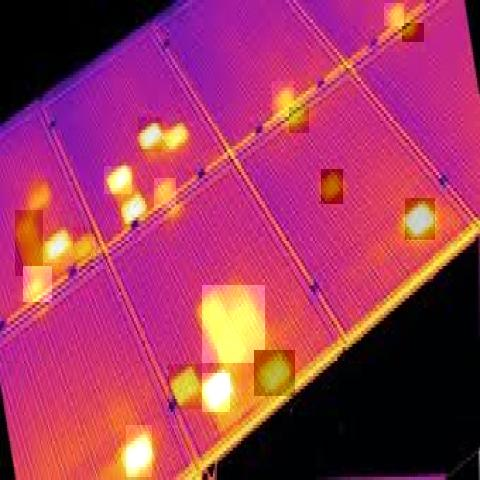fault: (202, 286, 265, 364), (15, 210, 44, 276), (254, 350, 295, 396), (168, 364, 202, 409), (126, 425, 152, 477), (405, 198, 435, 240), (202, 373, 230, 412), (23, 266, 52, 302), (27, 178, 52, 214), (73, 227, 94, 269), (138, 117, 162, 152), (272, 81, 294, 117), (104, 166, 132, 194), (321, 169, 343, 204), (44, 230, 69, 260), (168, 120, 188, 156), (120, 196, 150, 219), (154, 178, 176, 208), (289, 107, 310, 133), (384, 3, 404, 26), (402, 23, 424, 42)
